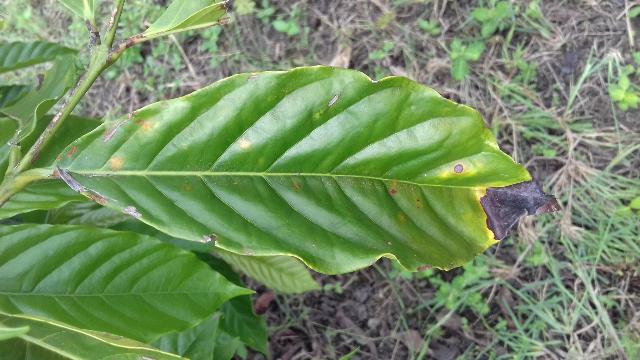rust_level_2: (52, 70, 564, 272)
